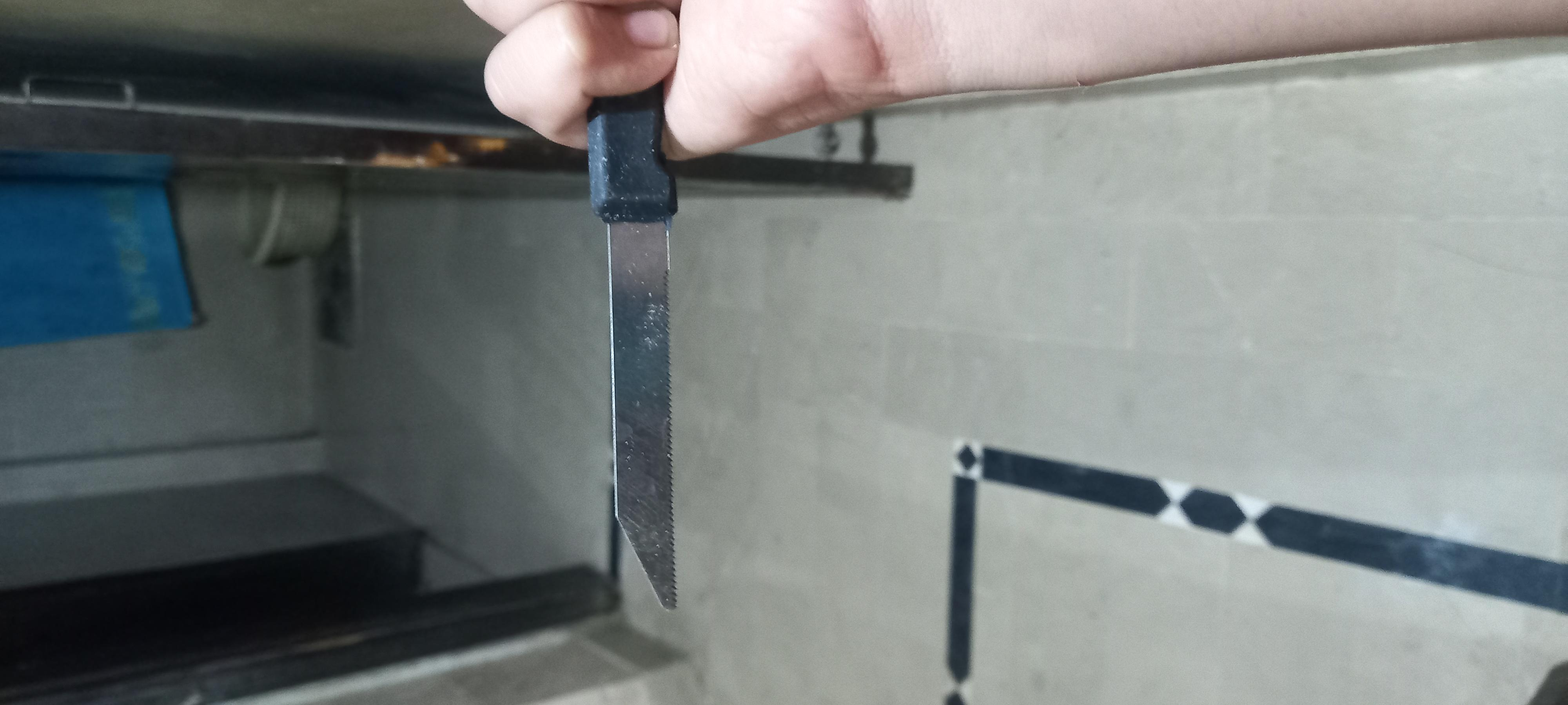knives: (178, 256, 1568, 311)
